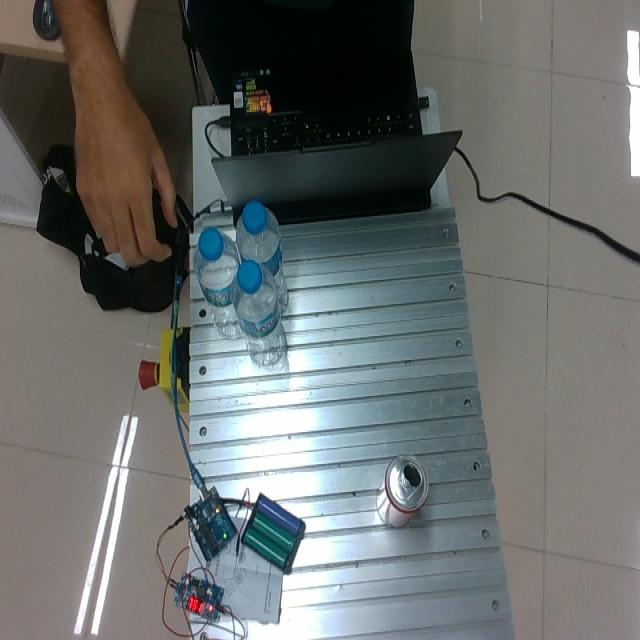coca: (377, 455, 429, 528)
lavie: (236, 201, 287, 315), (233, 264, 286, 369), (193, 228, 241, 337)
